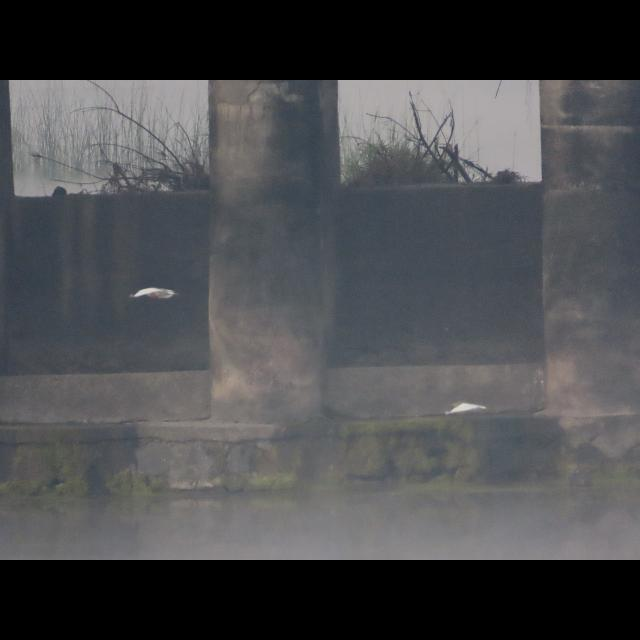heron: (122, 284, 176, 308), (444, 397, 486, 421)
